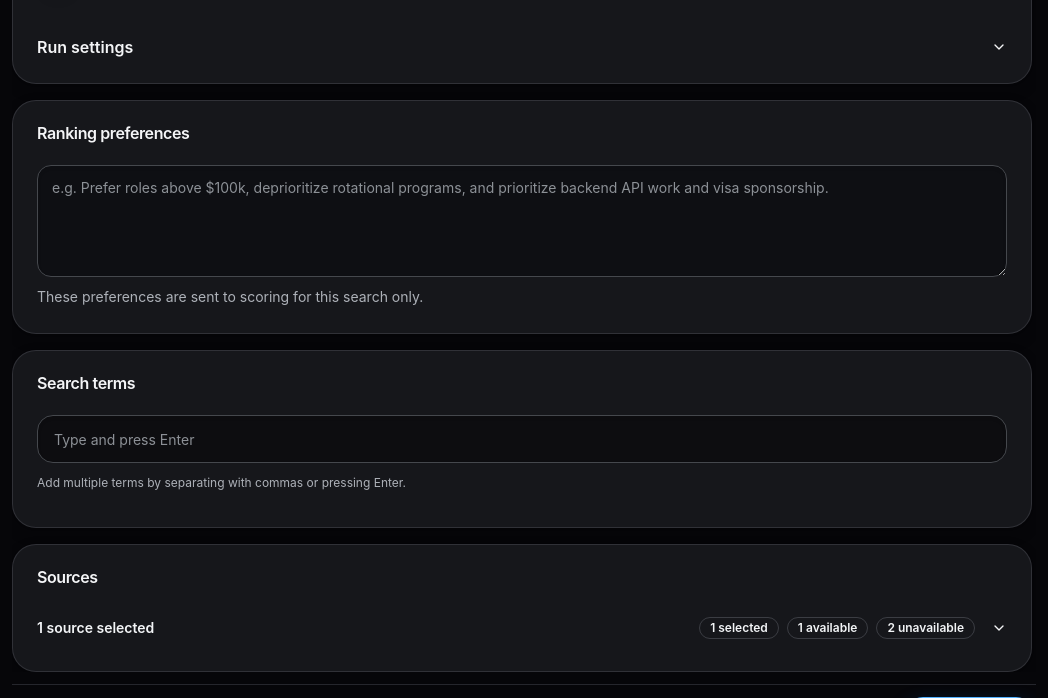
Test: AutomaticRunTab › shows disabled source guidance copy for UK-only source
(page scrolled)
Click the button with aria-label "Review and edit sources" at (96, 628), box x1=37 y1=609 x2=1007 y2=647
(page scrolled)
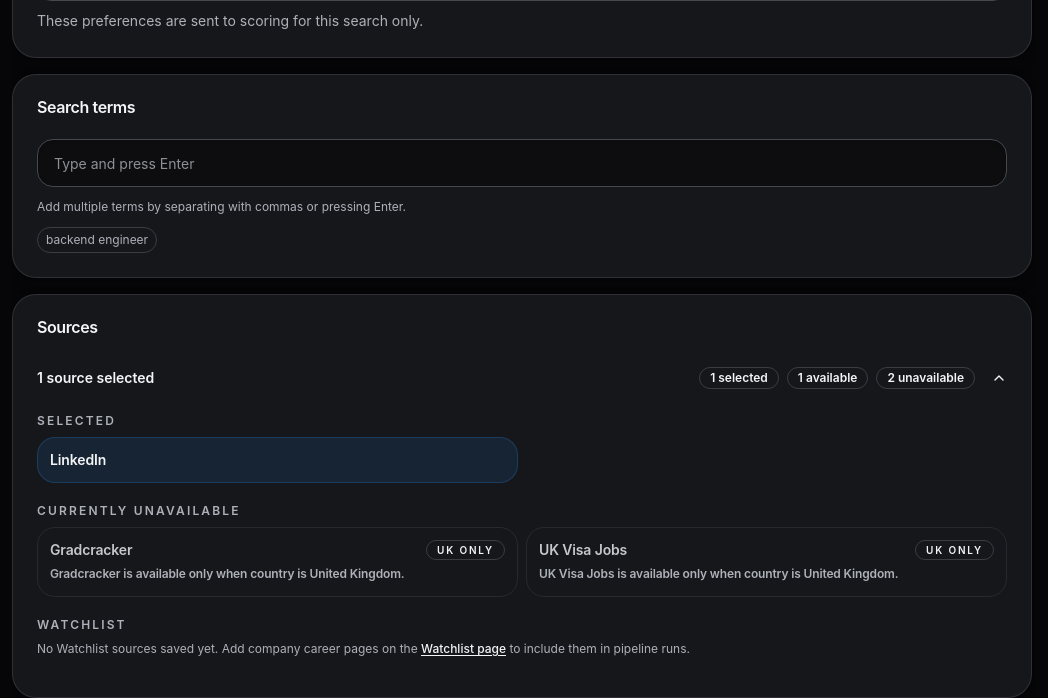
Expected: the button titled "Gradcracker is available only when country is United Kingdom." is shown, x1=37 y1=527 x2=518 y2=597
